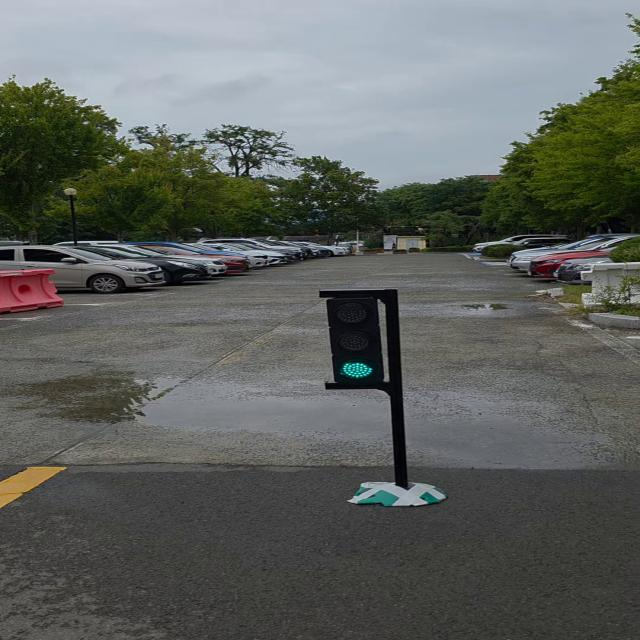green: (322, 293, 392, 389)
